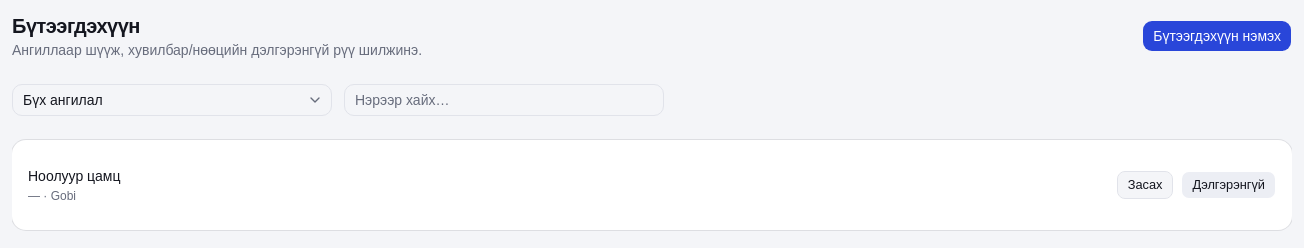
Test: ProductsPage — хайлтын талбар › хайлтын талбарт бичихэд (debounce-ийн дараа) searchProducts()-г дуудаж, үр дүнг харуулна
This screenshot has width=1304, height=248.
Expected: the text "Ноолуур цамц" is shown, [28, 166, 120, 186]
In the field with placeholder "Нэрээр хайх…": (504, 100) [344, 84, 664, 116], type "Ноолуур"
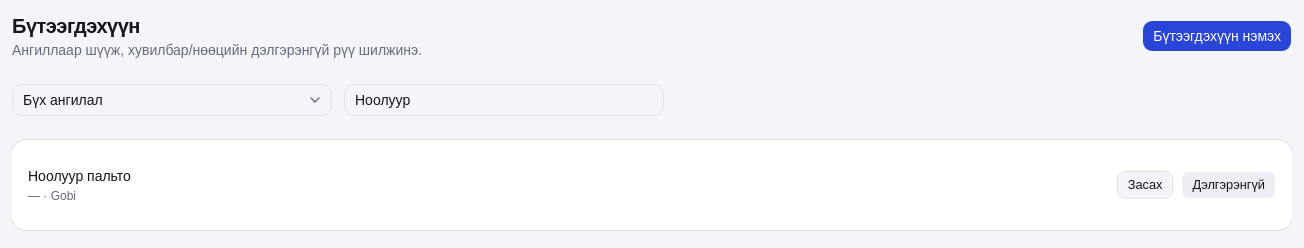
Now the text "Ноолуур пальто" is shown, box [28, 166, 131, 186]
Now the text "Ноолуур цамц" is gone
